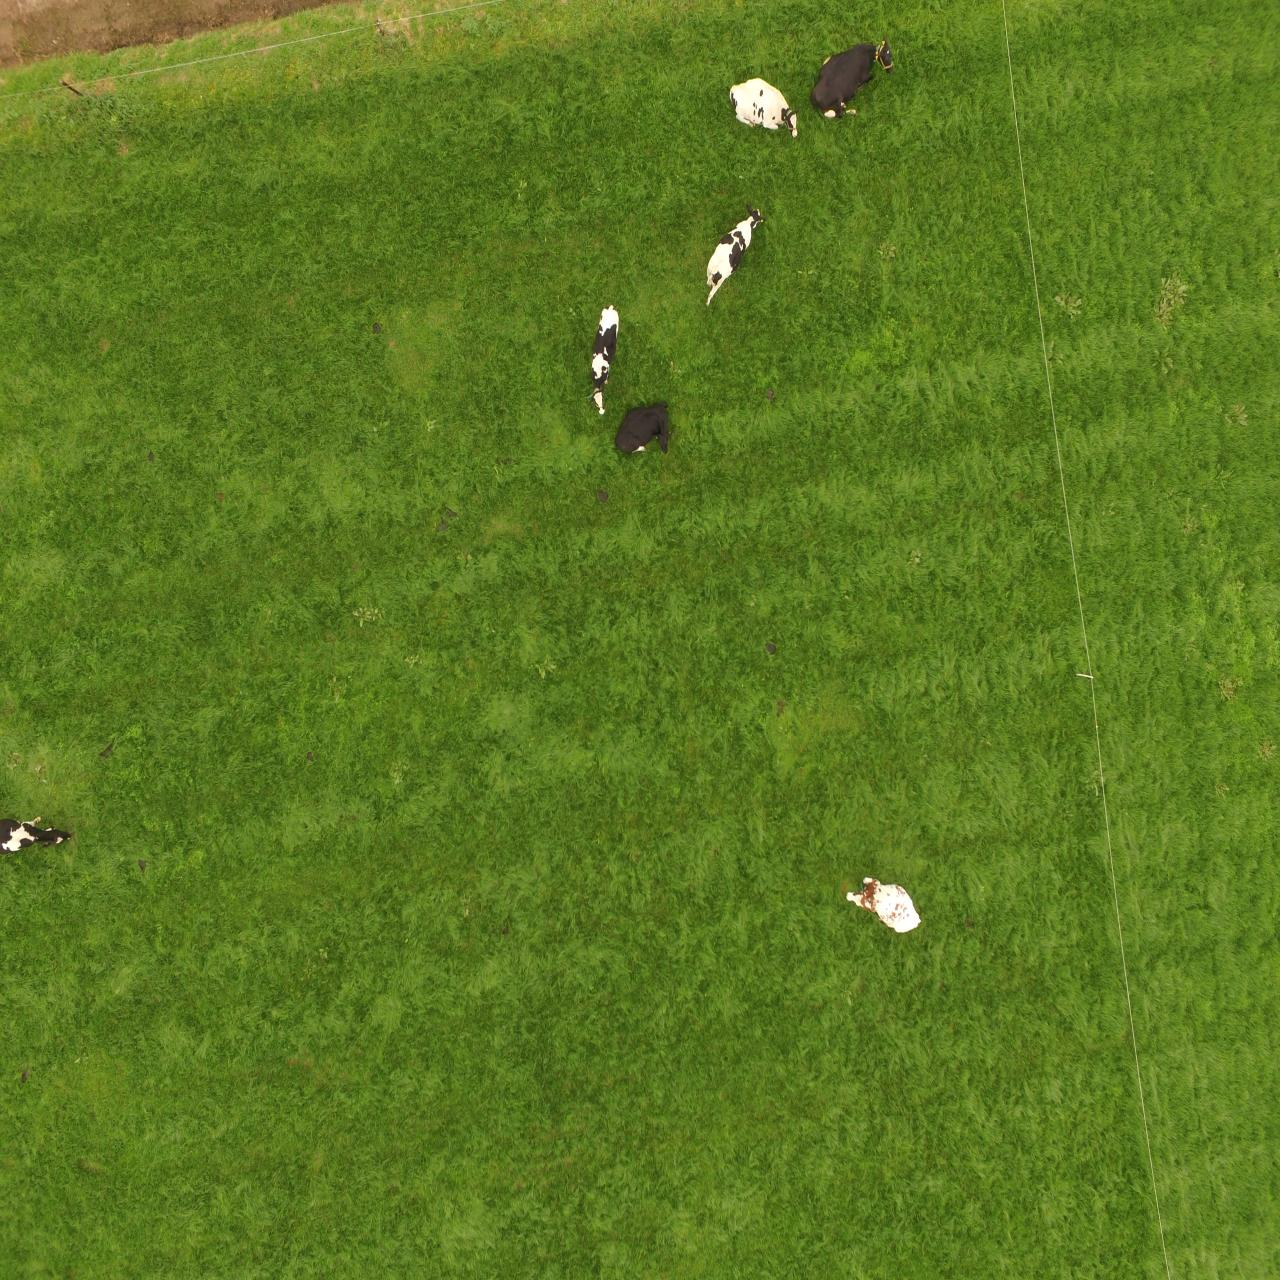cow: (696, 203, 768, 306), (818, 32, 893, 123), (843, 870, 920, 942), (723, 79, 802, 145), (615, 397, 678, 474), (587, 300, 625, 425), (0, 808, 72, 863)
